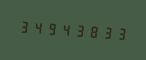eight: (87, 21, 100, 41)
four: (31, 17, 44, 37), (59, 19, 72, 39)
nine: (45, 18, 58, 38)
three: (115, 22, 128, 43), (17, 16, 30, 36), (73, 20, 86, 40), (101, 22, 114, 42)
